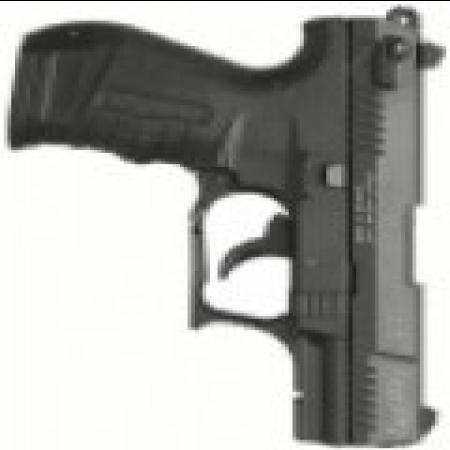Pistol: (7, 12, 442, 445)
